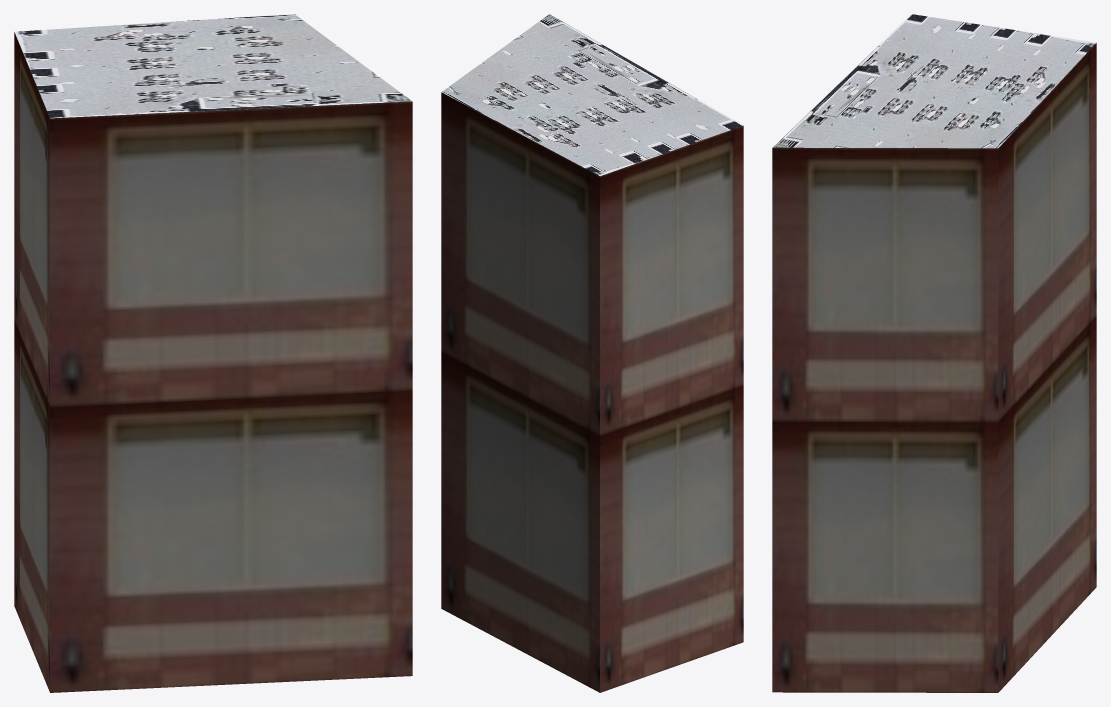
File: ResTex__811.fbx
3 renders of one model, left to right at view 1: azimuth 30°, elevation 25°; view 2: azimuth 150°, elevation 25°; view 3: azimuth 270°, elevation 25°, orthographic. The views are drawn at different scales.
Visible parts, largest first — view 1: CityEngineMaterial_13_m, CityEngineMaterial_4_m; view 2: CityEngineMaterial_13_m, CityEngineMaterial_4_m; view 3: CityEngineMaterial_13_m, CityEngineMaterial_4_m.
Boxes of the visible parts, x1,y1,x2,y2 form: CityEngineMaterial_13_m: [14, 32, 412, 692]; CityEngineMaterial_4_m: [14, 14, 411, 118]; CityEngineMaterial_13_m: [441, 92, 743, 692]; CityEngineMaterial_4_m: [441, 14, 742, 176]; CityEngineMaterial_13_m: [772, 43, 1096, 692]; CityEngineMaterial_4_m: [773, 14, 1095, 148].
Size of the model in its own units: 3.17 by 6 by 3.24.
Materials: 2 (2 with a texture image).
